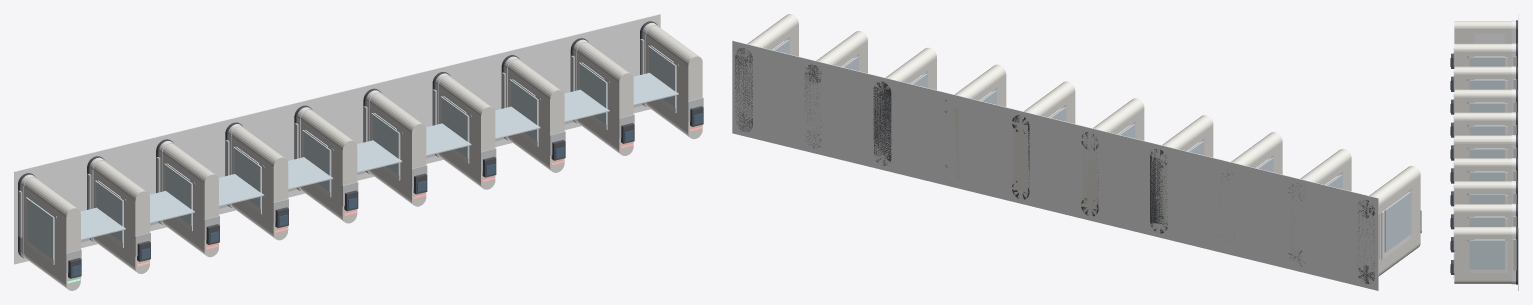
File: Cửa sinh trắc học 9 cửa.glb
The picture shows the model from 3 angles, left to right: view 1: azimuth 30°, elevation 25°; view 2: azimuth 150°, elevation 25°; view 3: azimuth 270°, elevation 25°; orthographic projection. The views are drawn at different scales.
Parts seen in each view (by area): view 1: world; view 2: world; view 3: world.
Boxes of the visible parts, <box> form: world: <box>14,14,703,290</box>; world: <box>732,14,1421,290</box>; world: <box>1450,14,1518,290</box>.
Size of the model in its own units: 9.65 by 1.32 by 1.3.
1 material, 1 textured.
